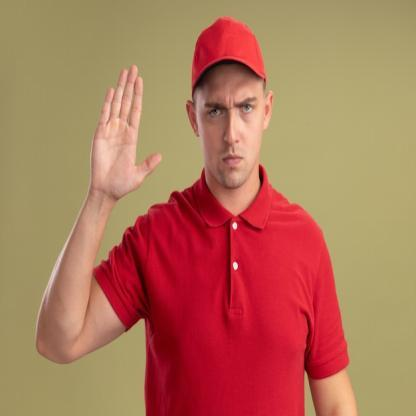stop: (89, 64, 164, 199)
